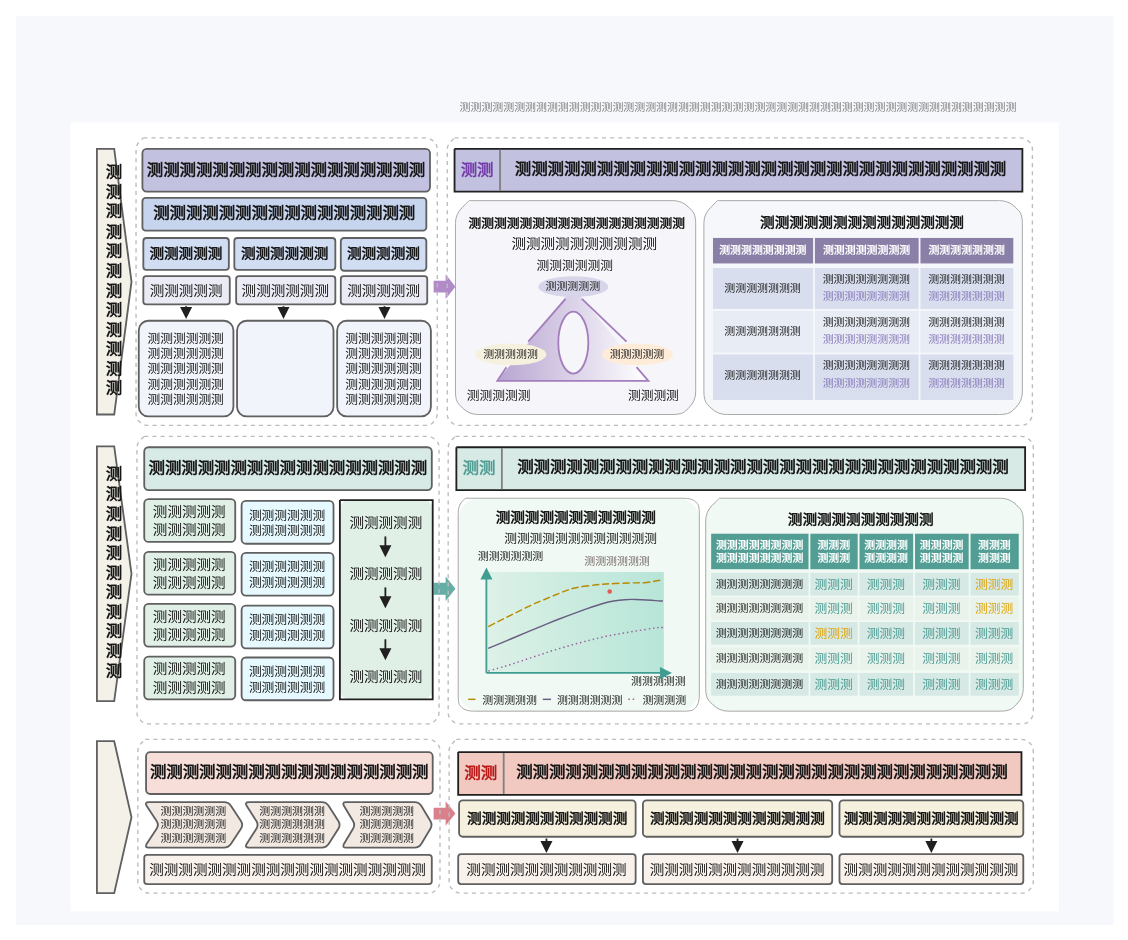
Image size: 1128x940. Some labels were removed from this diagram. Here are the shapes that lost their labels. From the top down, the centre of each, then its label:
[573,342]: 测 测 测 测
[285,368]: 测测测测测测测 测测测测测测测 测测测测测测测 测测测测测测测 测测测测测测测
[114,817]: 测 测 测 测 测 测
